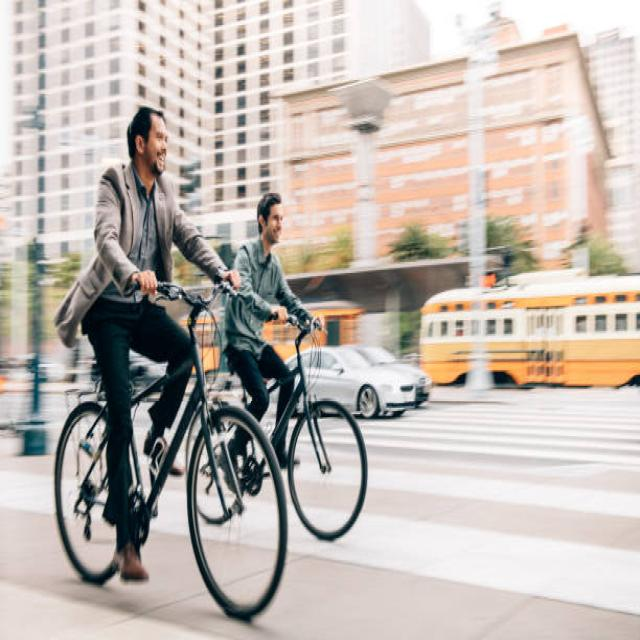bicycle: (55, 107, 288, 618), (226, 193, 368, 540)
